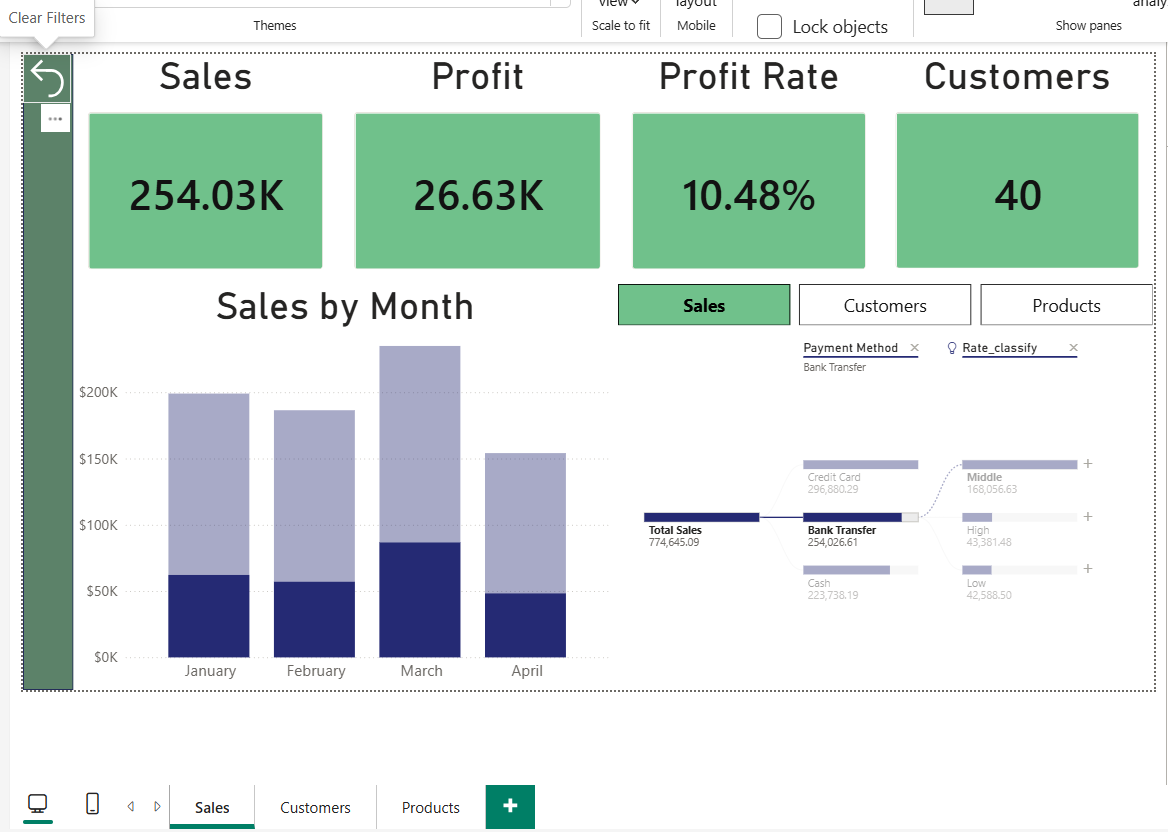

Layout of this report page (visuals, bound fields, positions):
{"tool":"powerbi","page":{"name":"Sales","canvas":[1280,720],"ordinal":0},"visuals":[{"type":"cardVisual","title":"Sales","fields":{"Data":["sales_data_final.Total Sales"]},"box":[57,0,300.8,260.8],"z":0},{"type":"cardVisual","title":"Profit","fields":{"Data":["sales_data_final.Totlal Profit"]},"box":[357.8,0,313.6,260.8],"z":1000},{"type":"cardVisual","title":"Customers","fields":{"Data":["sales_data_final.Unique Customers"]},"box":[970.2,0,310,260.2],"z":2000},{"type":"cardVisual","title":"Profit Rate","fields":{"Data":["sales_data_final.Profitability rate %"]},"box":[671.4,0,299.3,260.8],"z":3000},{"type":"shape","box":[0,0,57,719.8],"z":4000},{"type":"actionButton","box":[0,0,55,55.6],"z":5000},{"type":"columnChart","title":"Sales by Month","fields":{"Category":["sales_data_final.Date.Variation.Date Hierarchy.Month"],"Y":["Sum(sales_data_final.Total)"]},"box":[57.6,260.7,613.4,459.7],"z":6000},{"type":"pageNavigator","box":[674.1,260.2,606.2,47.1],"z":7000},{"type":"decompositionTreeVisual","fields":{"ExplainBy":["sales_data_final.Payment Method","customers.Customer Type","customers.Region","customer_feedback_final.Rate_classify"],"Analyze":["sales_data_final.Total Sales"]},"box":[673.8,307.4,606.5,413],"z":8000}]}

Visuals, with their boxes on the page's 1280x720 design canvas (x1, y1, x2, y2). These are canvas units, not pixel positions in the 1168x832 screenshot, which may show the page scaled, cropped or inside an application window:
"Sales" cardVisual: x1=57, y1=0, x2=358, y2=261
"Profit" cardVisual: x1=358, y1=0, x2=671, y2=261
"Customers" cardVisual: x1=970, y1=0, x2=1280, y2=260
"Profit Rate" cardVisual: x1=671, y1=0, x2=971, y2=261
shape: x1=0, y1=0, x2=57, y2=720
actionButton: x1=0, y1=0, x2=55, y2=56
"Sales by Month" columnChart: x1=58, y1=261, x2=671, y2=720
pageNavigator: x1=674, y1=260, x2=1280, y2=307
decompositionTreeVisual - sales_data_final.Payment Method x customers.Customer Type: x1=674, y1=307, x2=1280, y2=720
